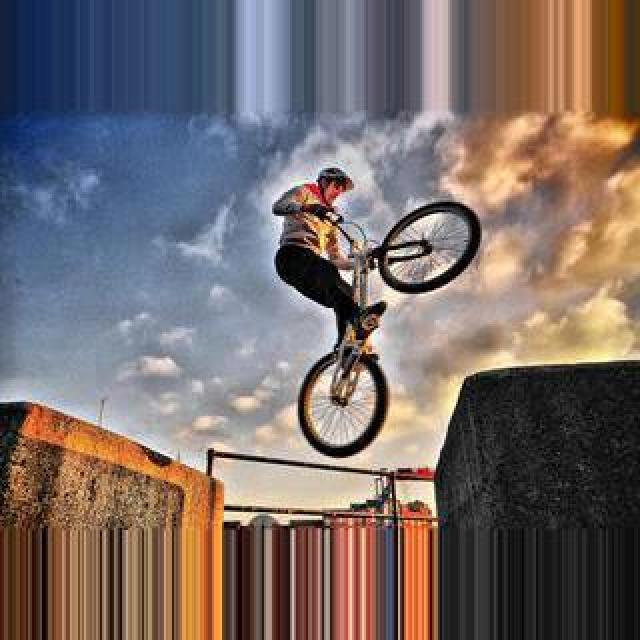MC-Bike: (272, 166, 374, 362)
Person: (302, 202, 482, 458)
